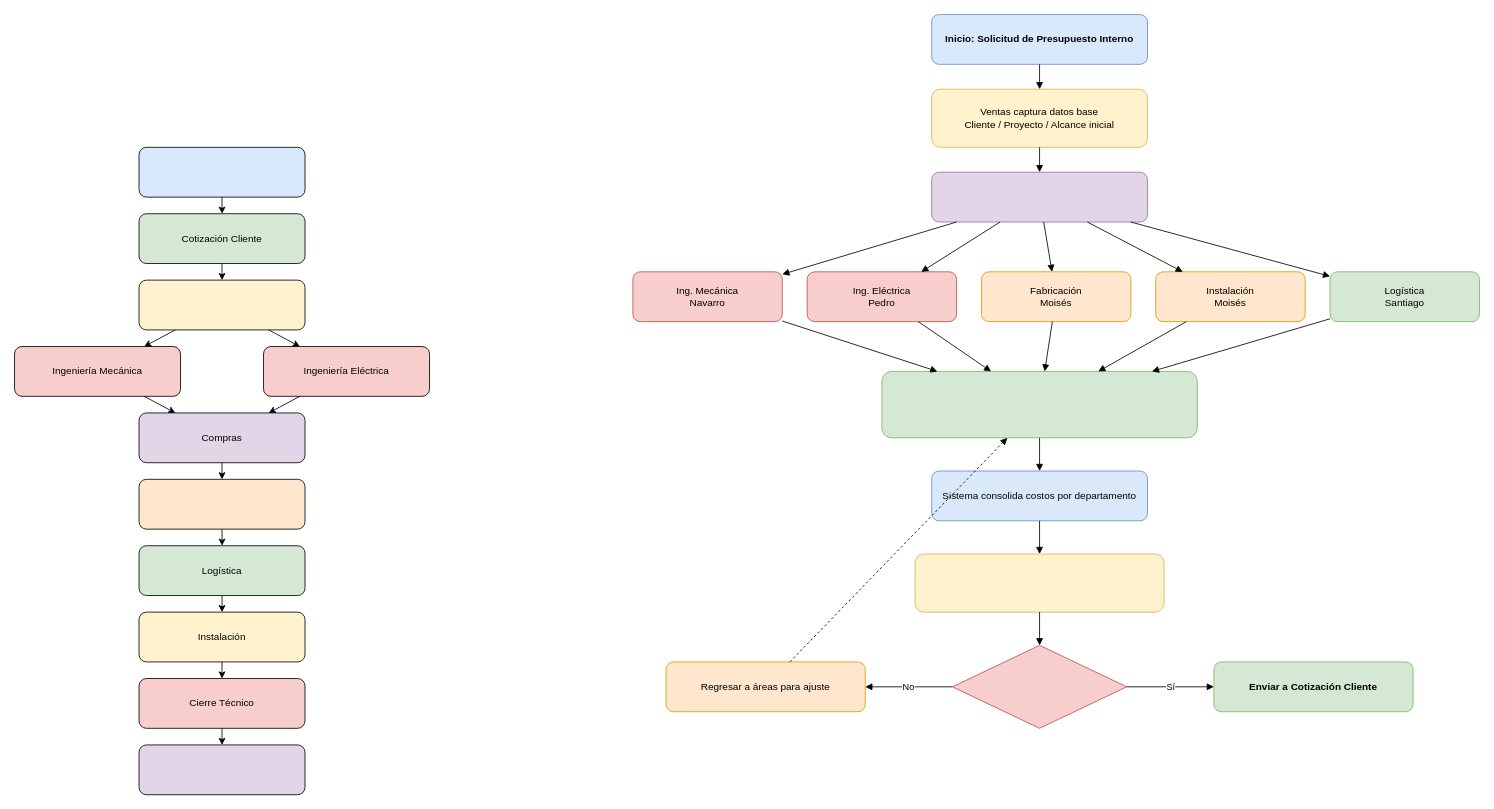
This 1494x809 diagram has some shape labels left out. The shapes that lost their labels are listed below. From the top down, each one's box as (x1, y1, x2, y2) in pixels, then its label:
(138, 146, 305, 197): Presupuesto Interno
(931, 171, 1147, 222): Asignar departamentos involucrados
(138, 279, 305, 330): Inicio Proyecto (Kickoff)
(881, 371, 1197, 438): Cada área captura: Materiales / Mano de obra / Servicios / Gastos / Comentarios
(138, 478, 305, 529): Fabricación
(914, 553, 1164, 612): Revisión de Ventas / Dirección Margen, utilidad y precio sugerido
(952, 644, 1127, 728): ¿Presupuesto interno aprobado?
(138, 744, 305, 795): Cierre Administrativo
